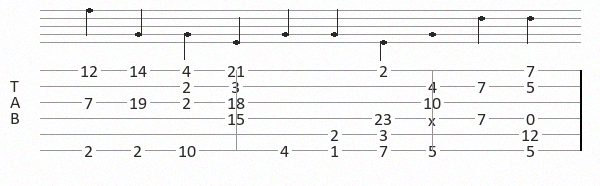0: (526, 111, 539, 126)
1: (330, 143, 343, 158)
10: (178, 143, 200, 158), (423, 95, 445, 110)
12: (80, 63, 102, 78), (521, 127, 543, 142)
14: (129, 63, 151, 78)
15: (227, 111, 249, 126)
18: (227, 95, 249, 110)
19: (129, 95, 151, 110)
2: (84, 143, 97, 158), (133, 143, 146, 158), (182, 79, 195, 94), (182, 95, 195, 110), (330, 127, 343, 142), (379, 63, 392, 78)
21: (227, 63, 249, 78)
23: (374, 111, 396, 126)
3: (231, 79, 244, 94), (379, 127, 392, 142)
4: (182, 63, 195, 78), (280, 143, 293, 158), (428, 79, 441, 94)
5: (428, 143, 441, 158), (526, 143, 539, 158), (526, 79, 539, 94)
7: (84, 95, 97, 110), (379, 143, 392, 158), (477, 79, 490, 94), (477, 111, 490, 126), (526, 63, 539, 78)
x: (428, 112, 440, 124)
